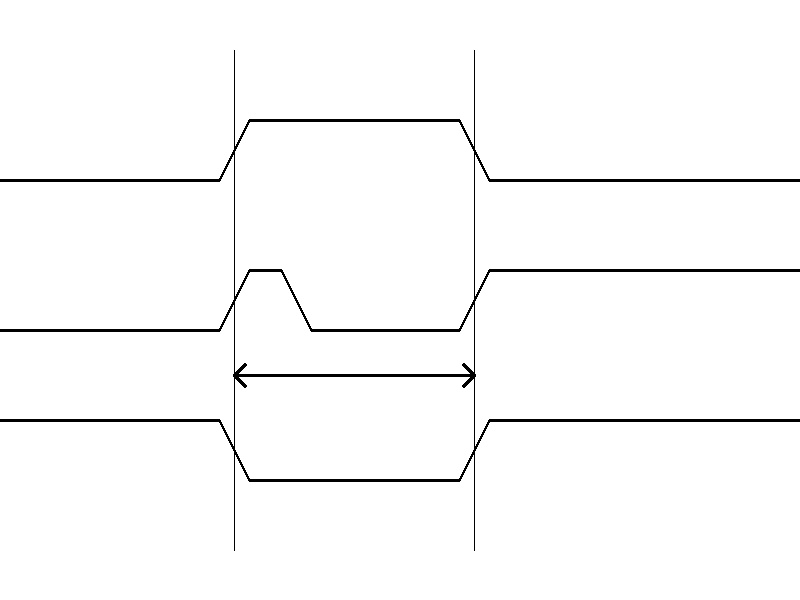double_arrow: (234, 360, 474, 390)
